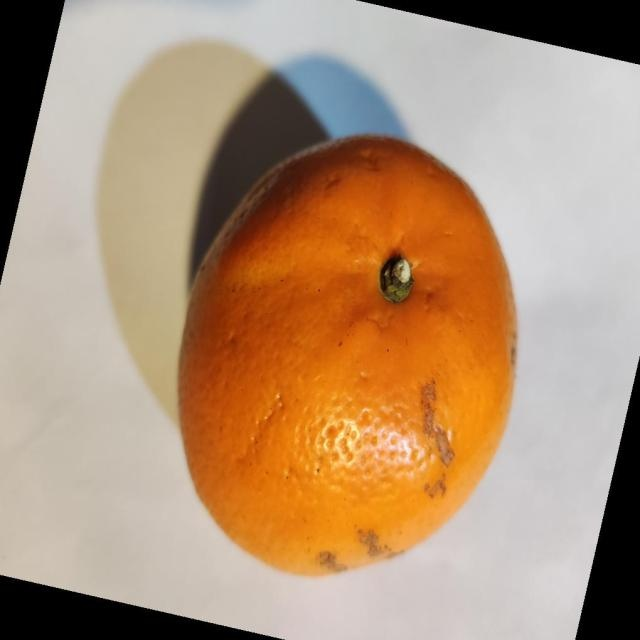agrume: (175, 132, 518, 577)
